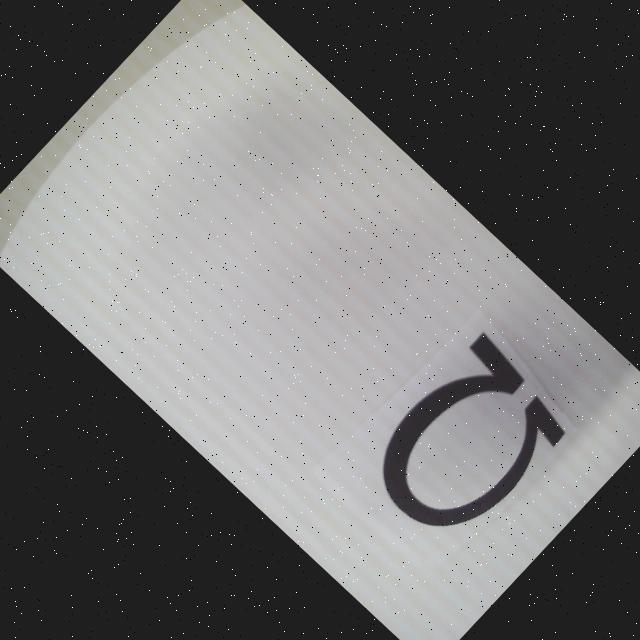OMEGA: (355, 332, 578, 557)
